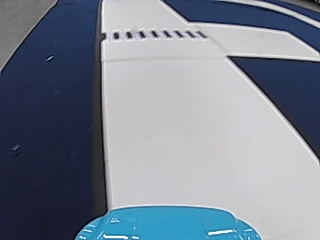CrossWalk: (106, 26, 205, 42)
